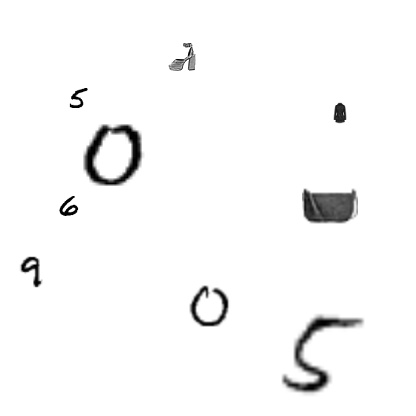0: (69, 110, 153, 194), (180, 278, 236, 334)
5: (259, 295, 371, 407), (64, 84, 92, 112)
6: (54, 194, 82, 222)
9: (11, 248, 53, 290)
Bag: (302, 177, 358, 233)
Coat: (329, 102, 351, 124)
Sandal: (168, 43, 196, 71)
